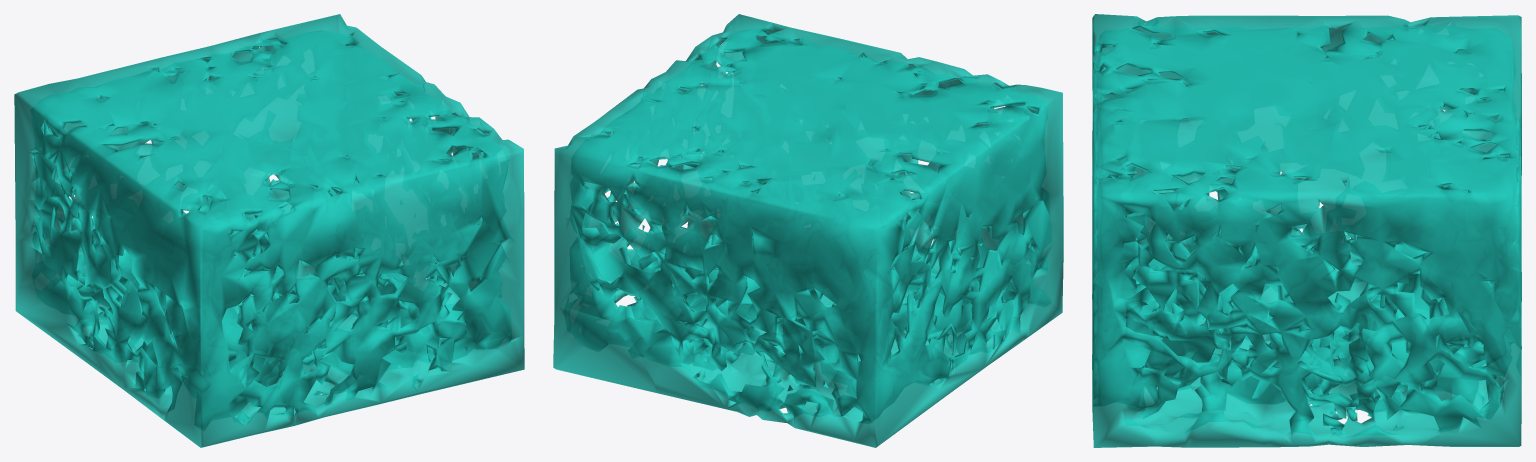
3 views of the same model, side by side, from view 1: azimuth 30°, elevation 25°; view 2: azimuth 150°, elevation 25°; view 3: azimuth 270°, elevation 25° (orthographic). The views are drawn at different scales.
Visible parts, largest first — view 1: Liquid_Domain; view 2: Liquid_Domain; view 3: Liquid_Domain.
Part boxes in pixels (x1=…): Liquid_Domain: x1=14, y1=14, x2=524, y2=447; Liquid_Domain: x1=553, y1=14, x2=1063, y2=447; Liquid_Domain: x1=1092, y1=14, x2=1521, y2=447.
Bounding box in the file's own units: 391 × 254 × 391.
